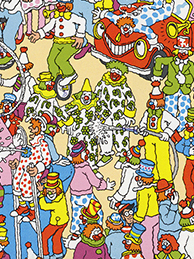waldo: (115, 202, 136, 225)
